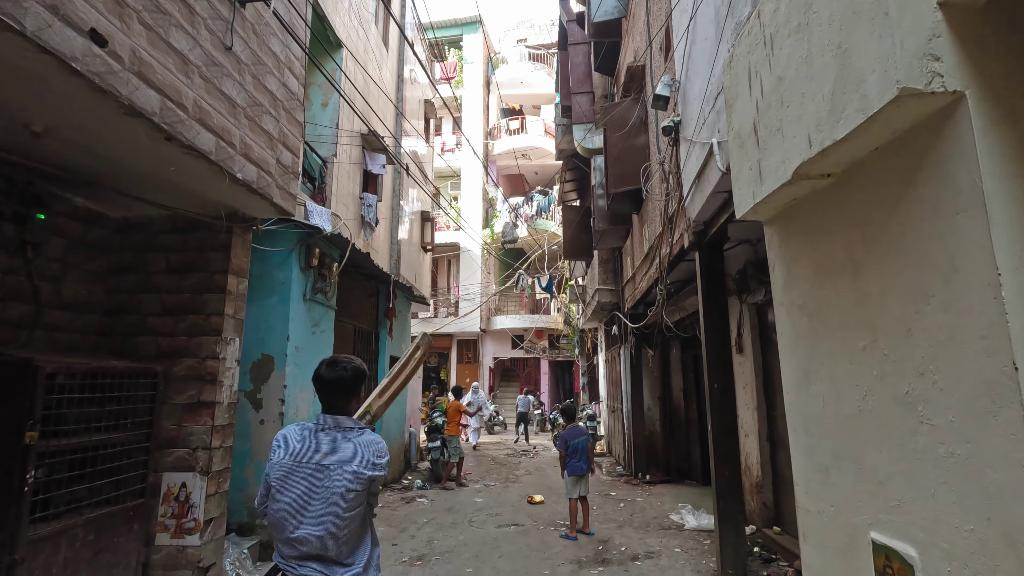garbage: (667, 501, 713, 536), (408, 477, 427, 496), (529, 489, 547, 505)
